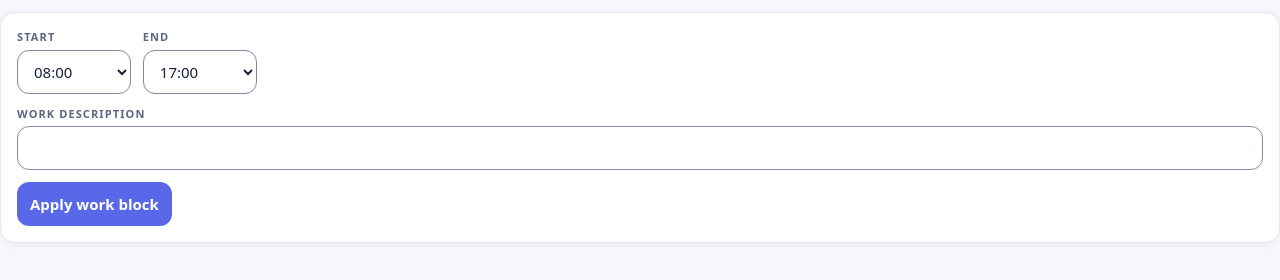
Scenario: WorkBlockForm › refuses an end boundary that is not after the start
This screenshot has width=1280, height=280.
Select "10:00" in the dropdown labelled "Start" at {"x": 74, "y": 72}, box [17,50,131,94]
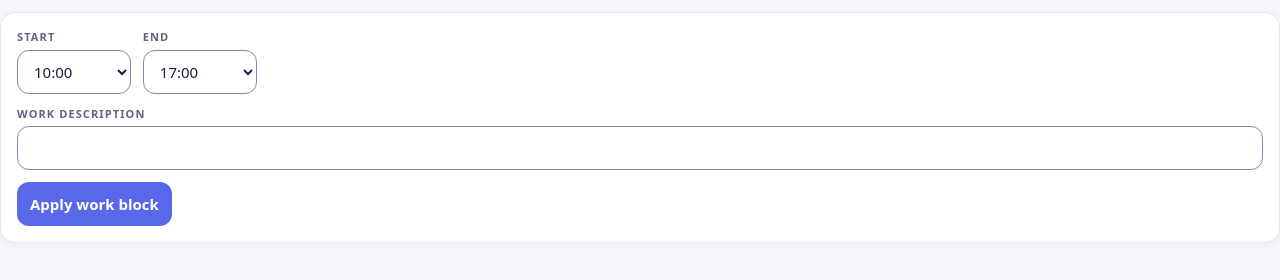
Select "09:00" in the dropdown labelled "End" at {"x": 200, "y": 72}, box [143,50,257,94]
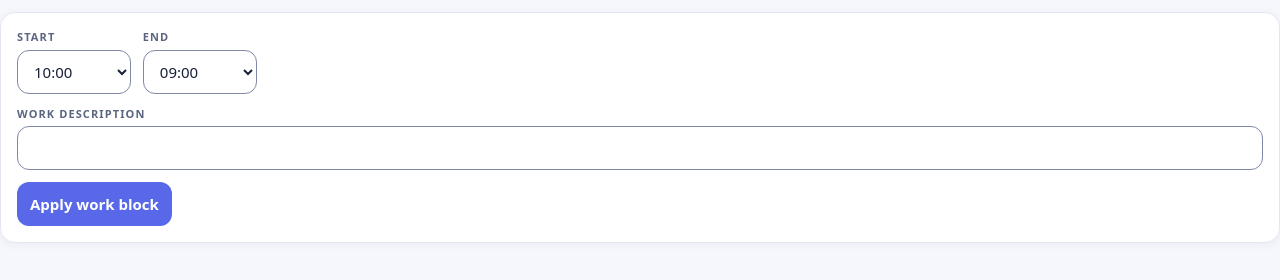
Type "Client report" into the field labelled "Work description" at {"x": 640, "y": 148}, box [17,126,1263,170]
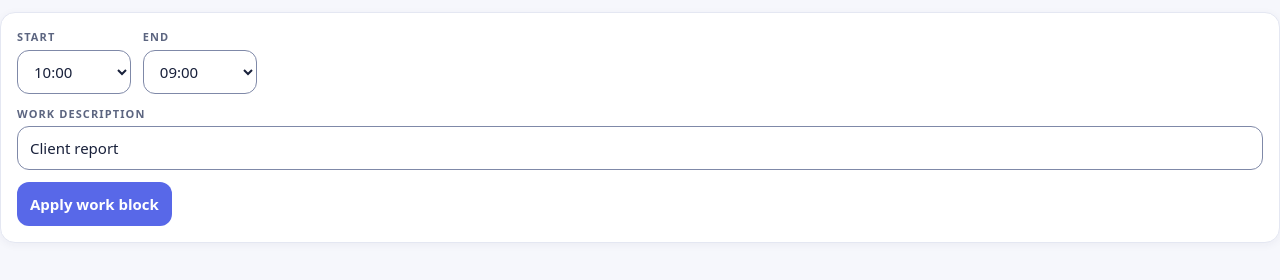
Click the button "Apply work block" at {"x": 94, "y": 204}, box [17,182,172,226]
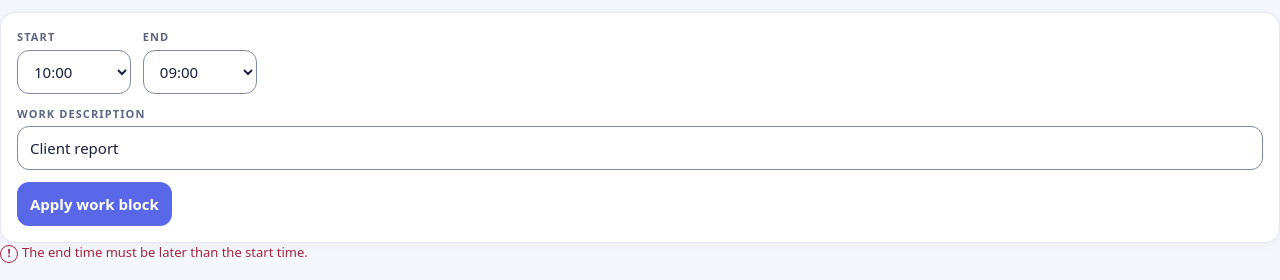
Expected: the message reads "The end time must be later than the start time.", [22,243,308,261]
